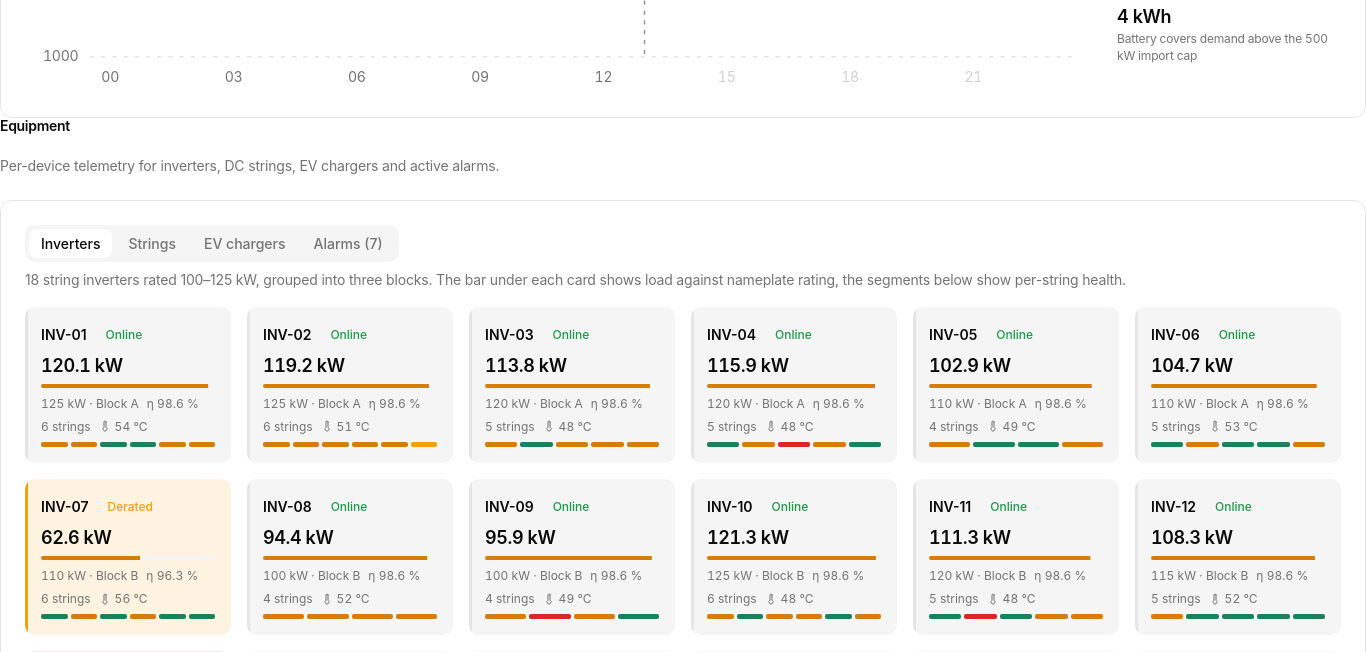
BessPage › exposes every inverter tile as a button that opens its string details
(page scrolled)
Click the button with aria-label "INV-01 · View string details": coordinates (128, 385) [25,307,231,463]
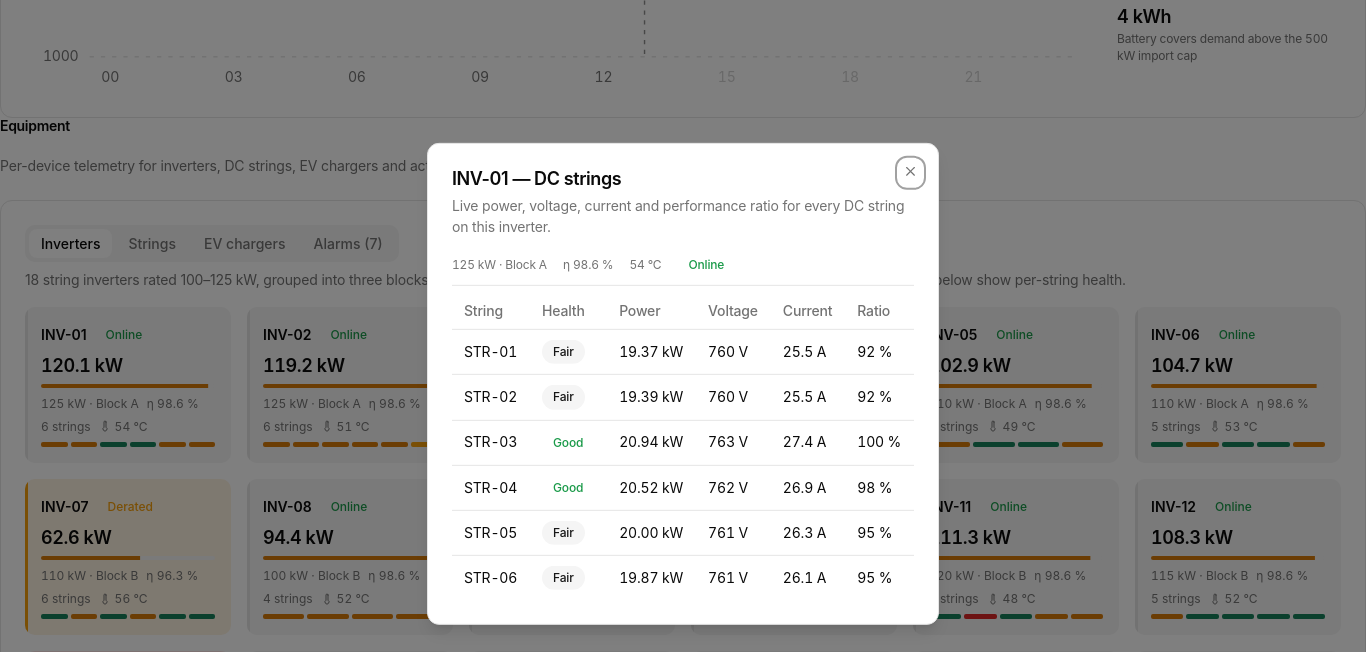
Result: the dialog is shown at [427,143,939,625]
Result: the heading "INV-01 — DC strings" is shown at [452,168,621,189]
